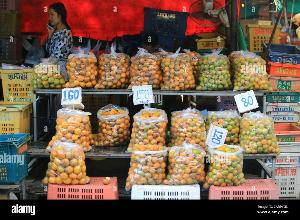orange: (42, 144, 90, 184), (93, 104, 131, 152), (231, 51, 273, 93), (205, 144, 245, 188), (53, 108, 93, 152), (166, 144, 206, 186), (131, 104, 169, 148), (130, 144, 166, 186), (170, 108, 206, 148), (198, 51, 231, 91), (162, 53, 196, 91), (208, 107, 240, 147), (245, 116, 277, 156), (96, 54, 130, 86), (131, 52, 161, 88), (66, 54, 96, 88), (34, 60, 64, 88)
